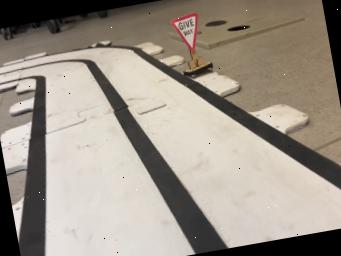give_way: (170, 12, 213, 78), (170, 12, 213, 78), (170, 12, 213, 78), (170, 12, 213, 78), (170, 12, 213, 78), (170, 12, 213, 78)
street: (0, 43, 341, 256), (0, 43, 341, 256), (0, 43, 341, 256), (0, 43, 341, 256), (0, 43, 341, 256), (0, 43, 341, 256)
